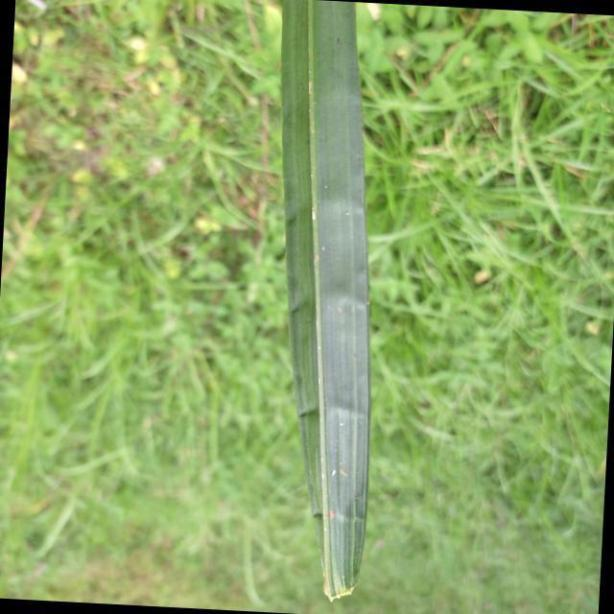Boron: (281, 0, 372, 604)
